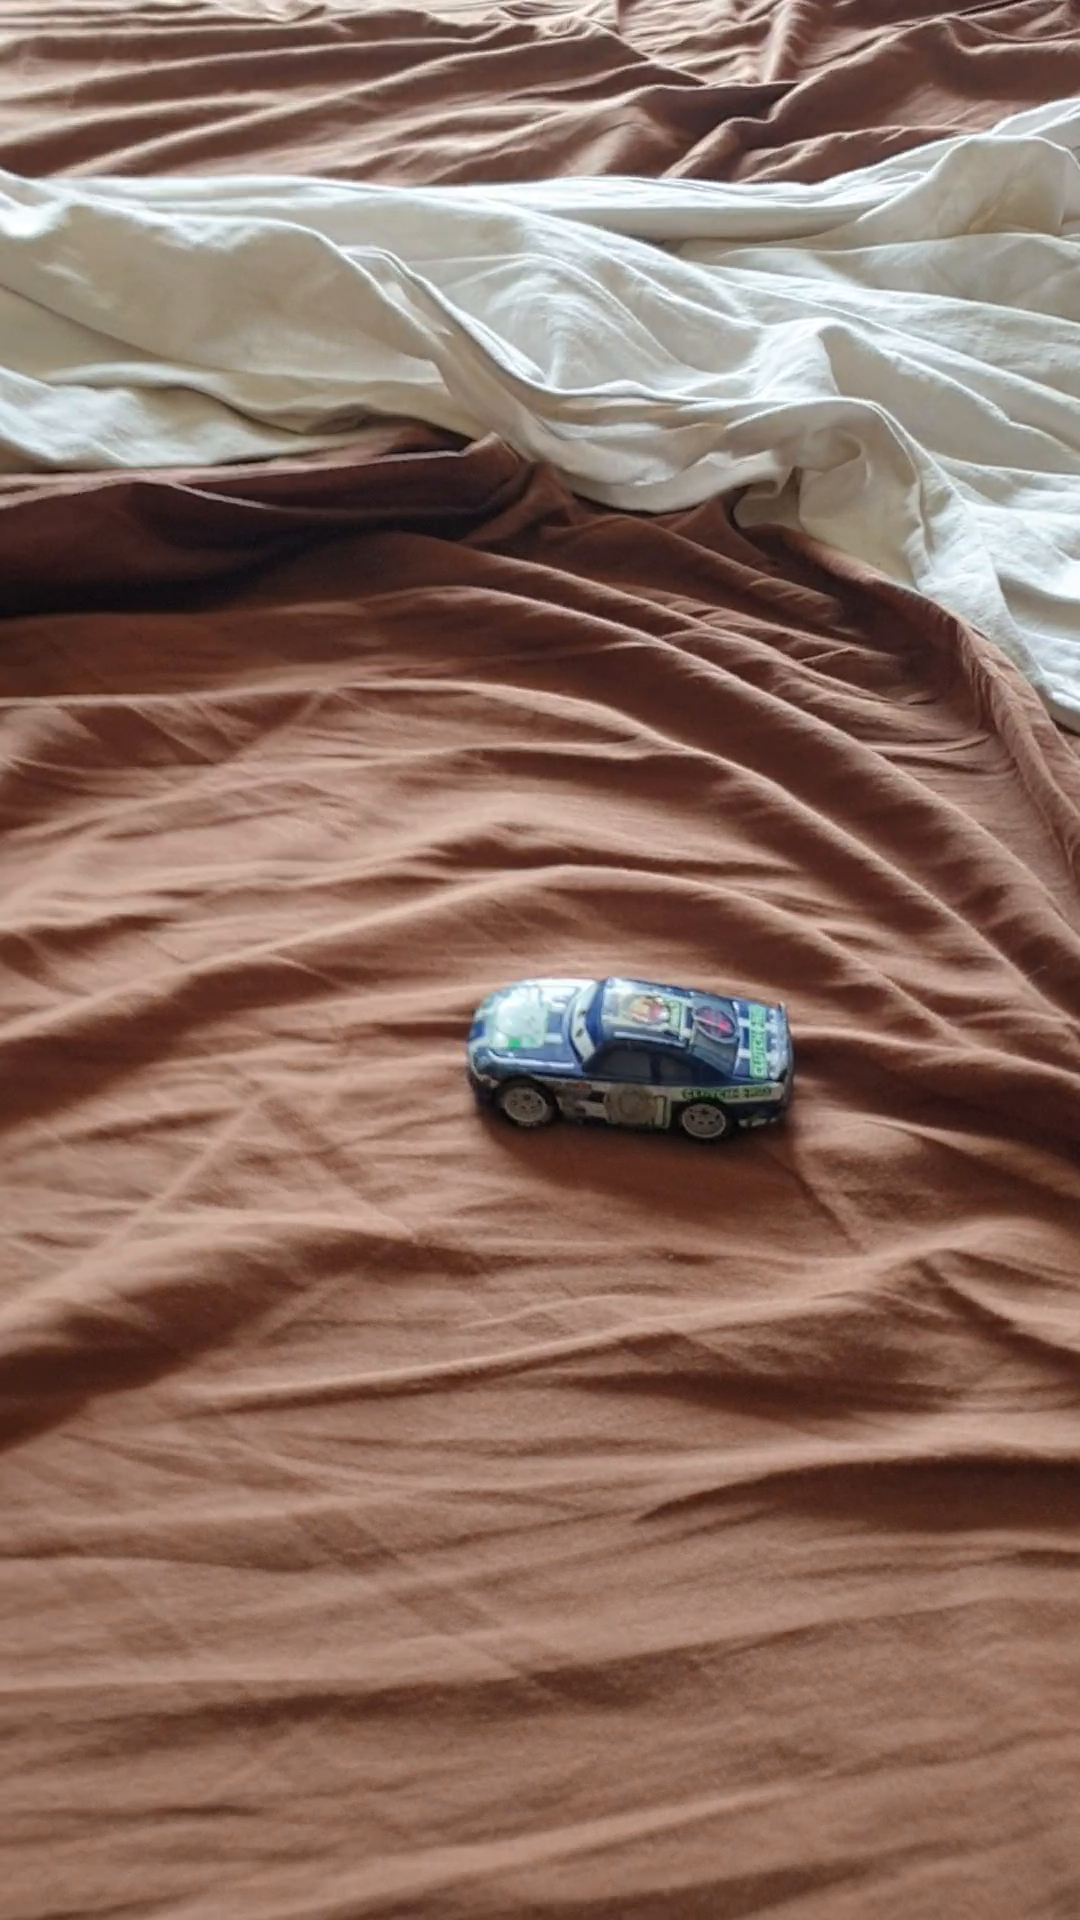cars: (463, 971, 793, 1135)
